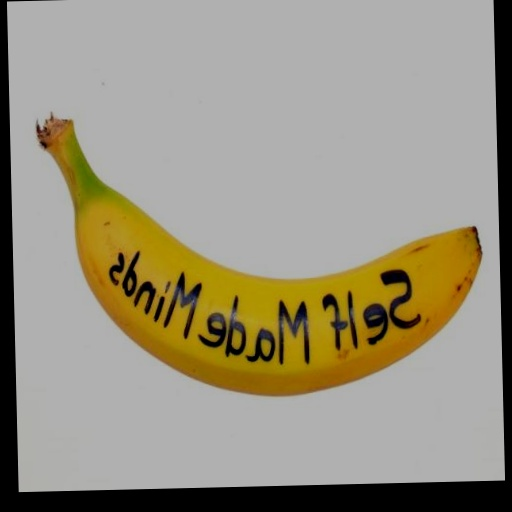fruit: (37, 115, 480, 394)
